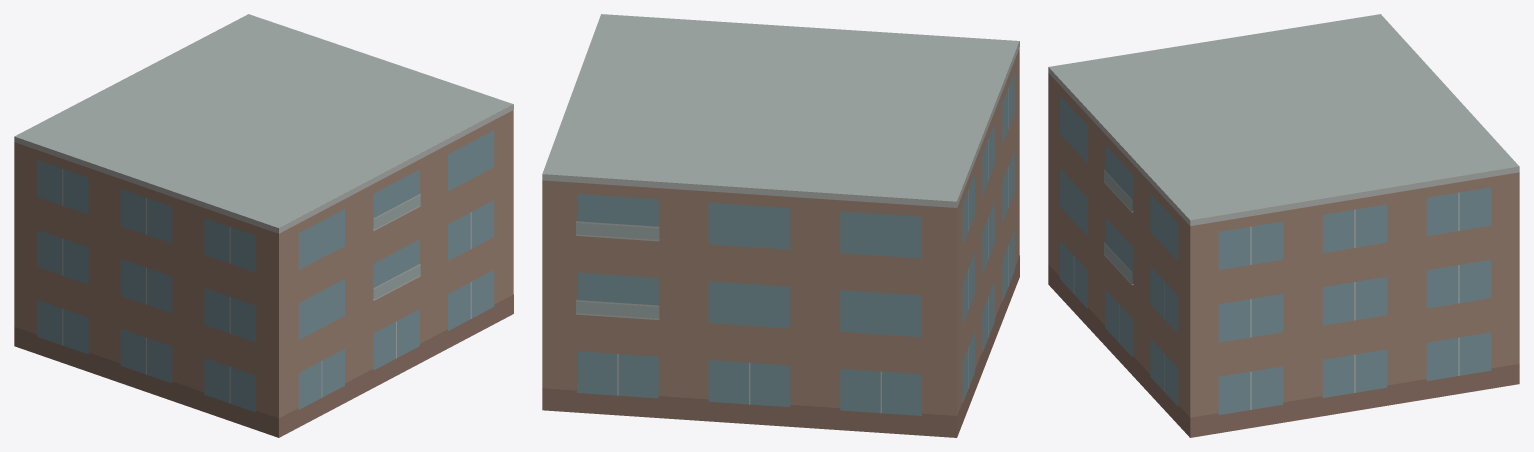
The model's file is survey-upis-32881768.glb.
The picture shows the model from 3 angles, left to right: view 1: azimuth 30°, elevation 25°; view 2: azimuth 150°, elevation 25°; view 3: azimuth 270°, elevation 25°; orthographic projection. The views are drawn at different scales.
Visible parts, largest first — view 1: survey-upis-32881768.tmp; view 2: survey-upis-32881768.tmp; view 3: survey-upis-32881768.tmp.
Boxes of the visible parts, x1,y1,x2,y2 form: survey-upis-32881768.tmp: (14, 14, 513, 437); survey-upis-32881768.tmp: (542, 14, 1019, 437); survey-upis-32881768.tmp: (1048, 14, 1519, 437).
Bounding box in the file's own units: 18.63 × 9.15 × 17.97.
